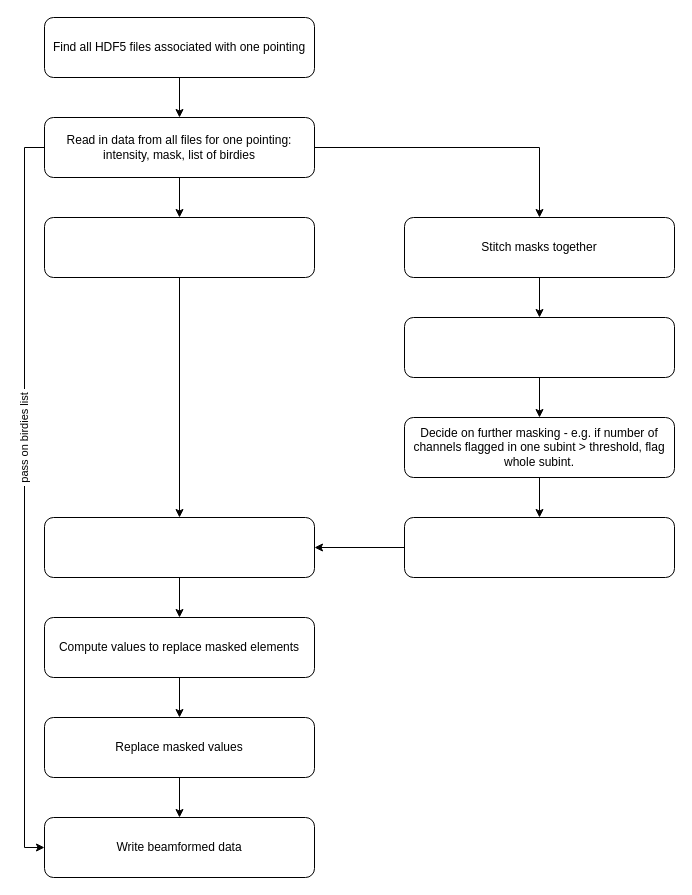
Some shapes in this 692 by 895 pixel diagram are drawn without their labels. The shapes that lost their labels are listed below. From the top down, each one's box as (x1, y1, x2, y2) in pixels, then its label:
(44, 216, 314, 278): Stitch intensity data together
(404, 316, 674, 378): Compute mask statistics
(44, 516, 314, 578): Apply mask
(404, 516, 674, 578): Update mask
